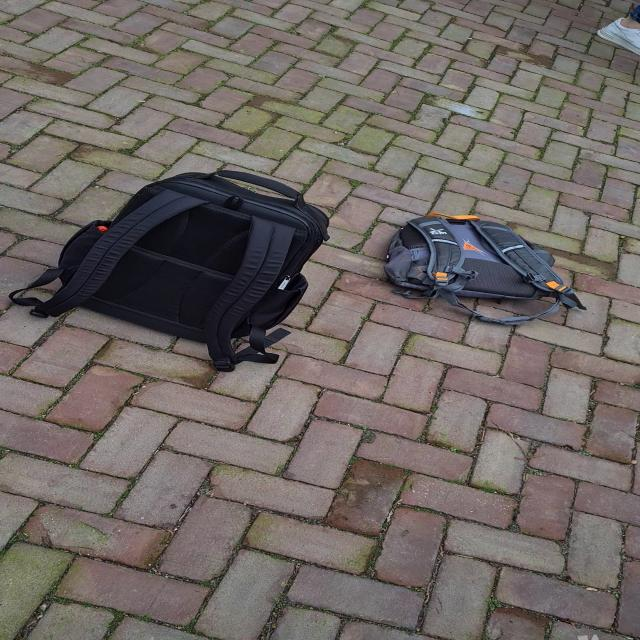backpack: (30, 163, 337, 362), (374, 209, 580, 320)
